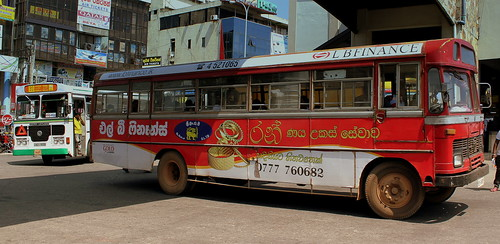bus: (90, 37, 489, 220), (11, 81, 91, 163)
